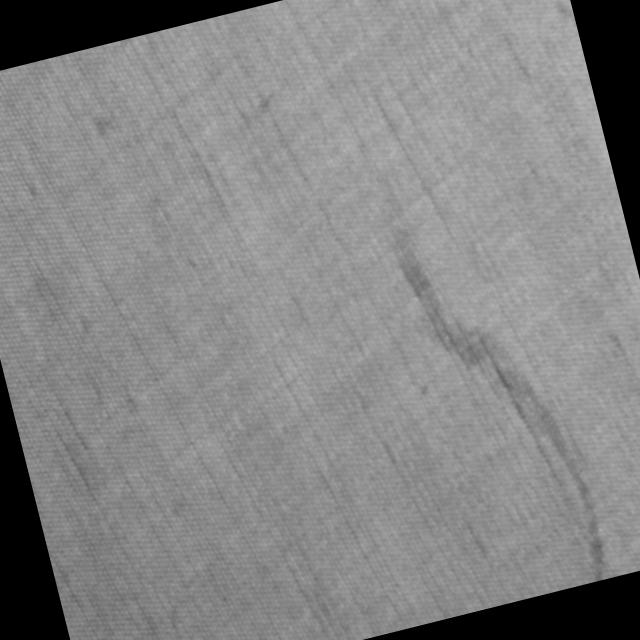oil spot: (382, 187, 616, 605)
